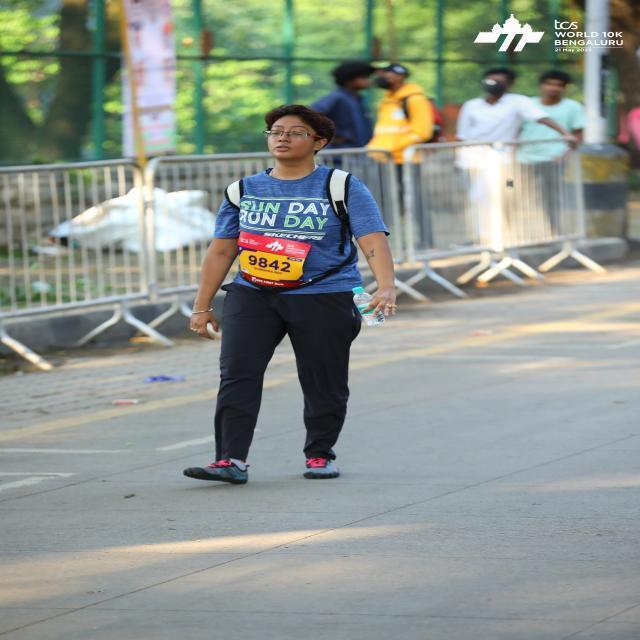dorsal: (234, 226, 308, 292)
